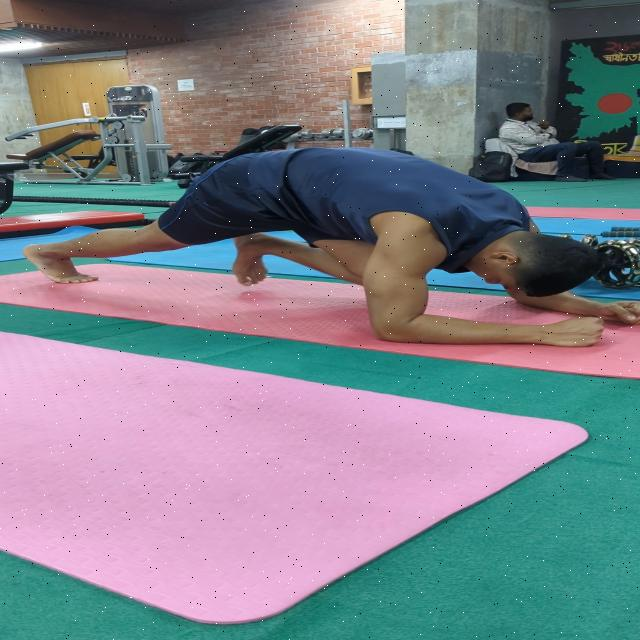Normal_MountainClimbers: (16, 147, 640, 353)
